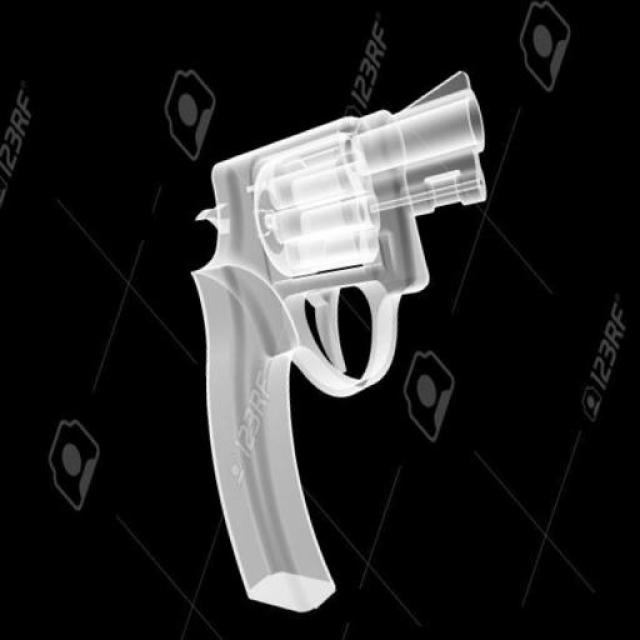gun: (140, 62, 566, 624)
